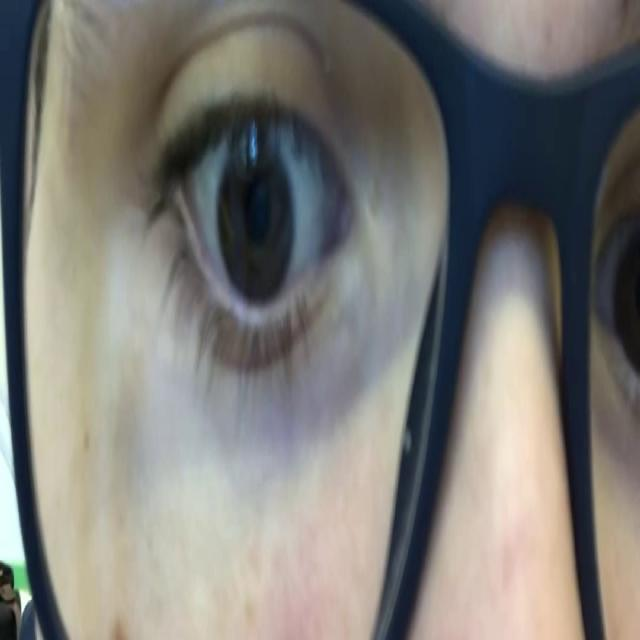eye: (149, 64, 364, 394)
gaze: (216, 126, 297, 310)
